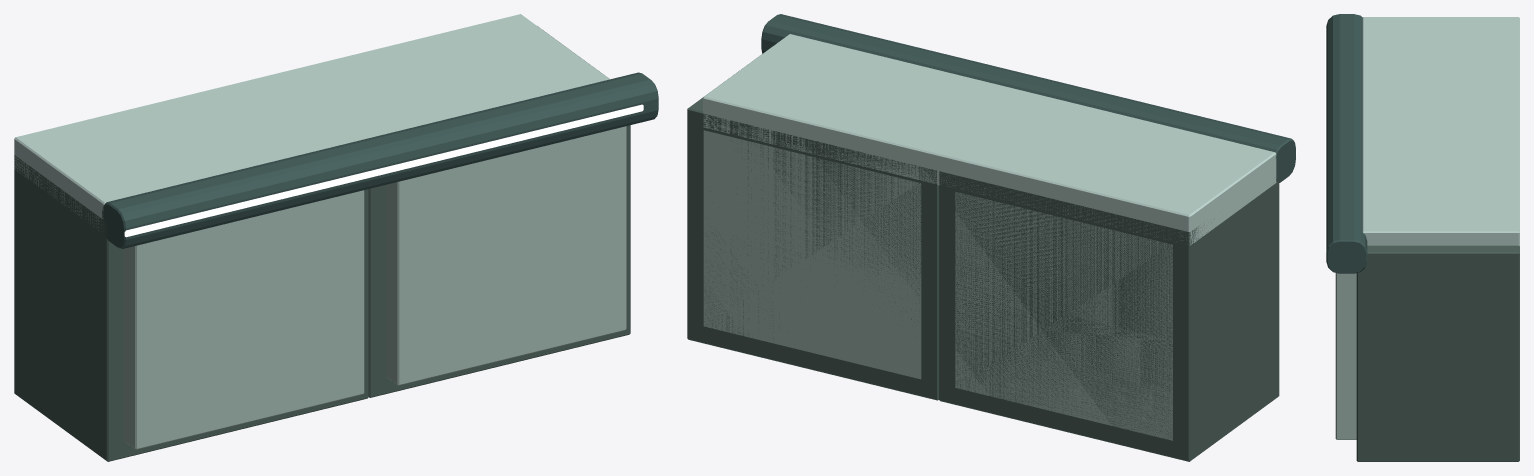
Rendered from Terrain_TopRun2R.gltf.
3 views of the same model, side by side, from view 1: azimuth 30°, elevation 25°; view 2: azimuth 150°, elevation 25°; view 3: azimuth 270°, elevation 25° (orthographic). The views are drawn at different scales.
Visible parts, largest first — view 1: Terrain_TopRun2R_baked; view 2: Terrain_TopRun2R_baked; view 3: Terrain_TopRun2R_baked.
Boxes of the visible parts, bbox=[...] form: Terrain_TopRun2R_baked: bbox=[14, 14, 658, 461]; Terrain_TopRun2R_baked: bbox=[687, 14, 1296, 461]; Terrain_TopRun2R_baked: bbox=[1325, 14, 1519, 461].
Size of the model in its own units: 2.04 by 0.9495 by 0.74.
